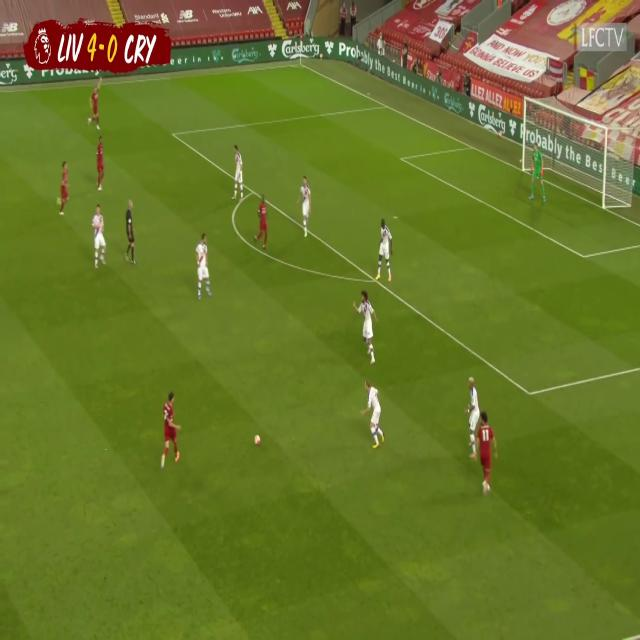ball: (254, 431, 263, 449)
team1: (476, 414, 499, 498), (160, 389, 183, 471), (56, 161, 72, 216), (254, 196, 269, 250), (94, 135, 108, 191), (89, 82, 103, 130)
team2: (360, 381, 385, 451), (356, 289, 377, 366), (464, 376, 482, 458), (196, 233, 213, 301), (376, 218, 394, 282), (300, 176, 314, 239), (232, 145, 246, 202), (95, 204, 106, 270)
